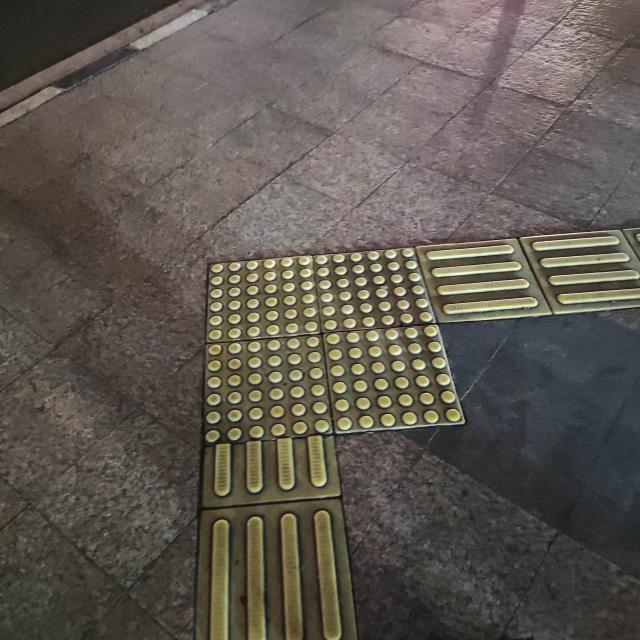kanan: (149, 210, 611, 520)
